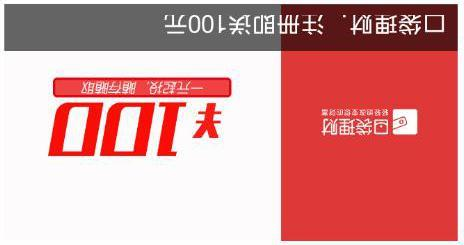ImgView: (1, 1, 463, 244)
